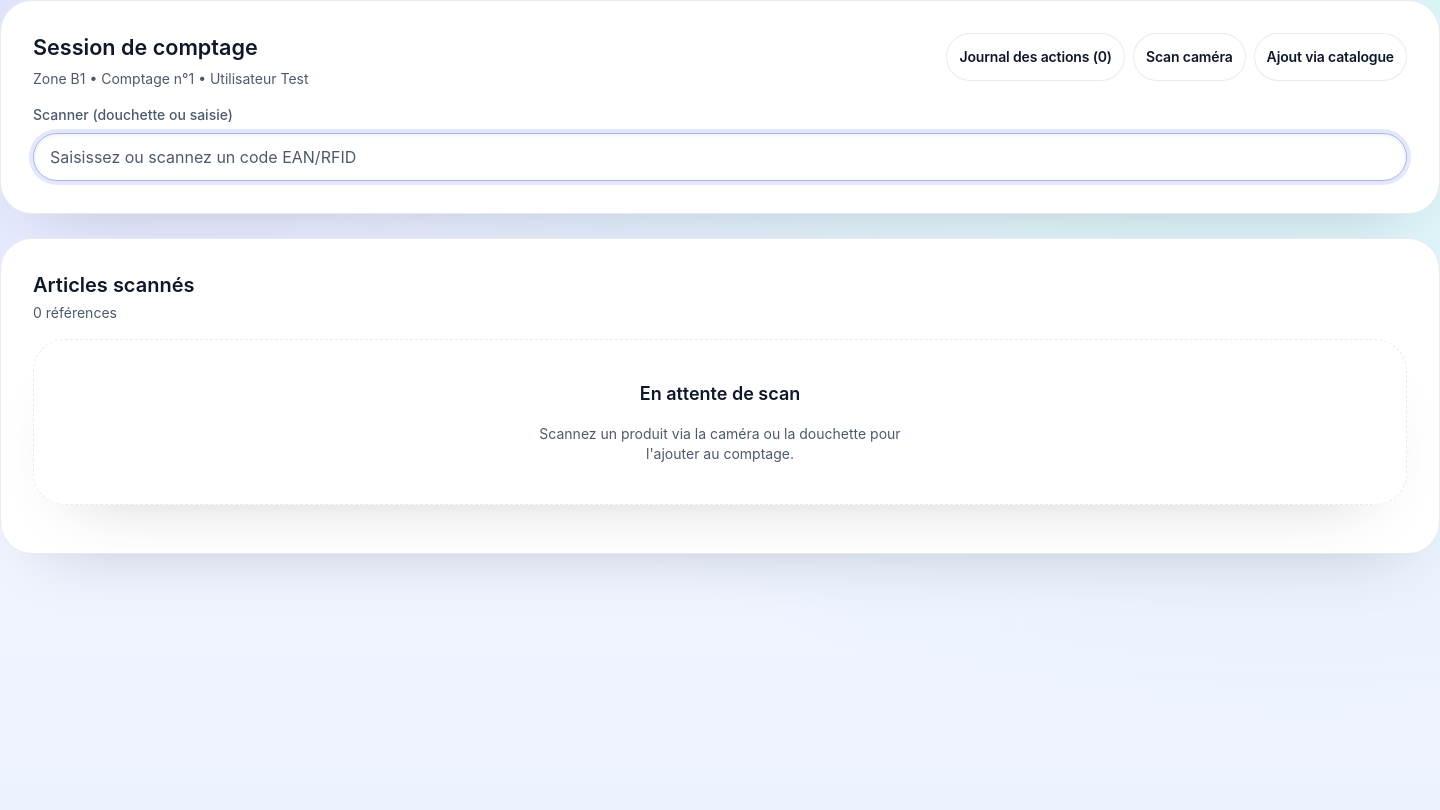
Test: InventorySessionPage - ajout manuel › signale un produit inconnu lorsqu’un code non référencé est saisi
The width and height of the screenshot is (1440, 810).
Type "12345678" into the field labelled "Scanner (douchette ou saisie)" at (720, 157), box [33, 133, 1407, 181]
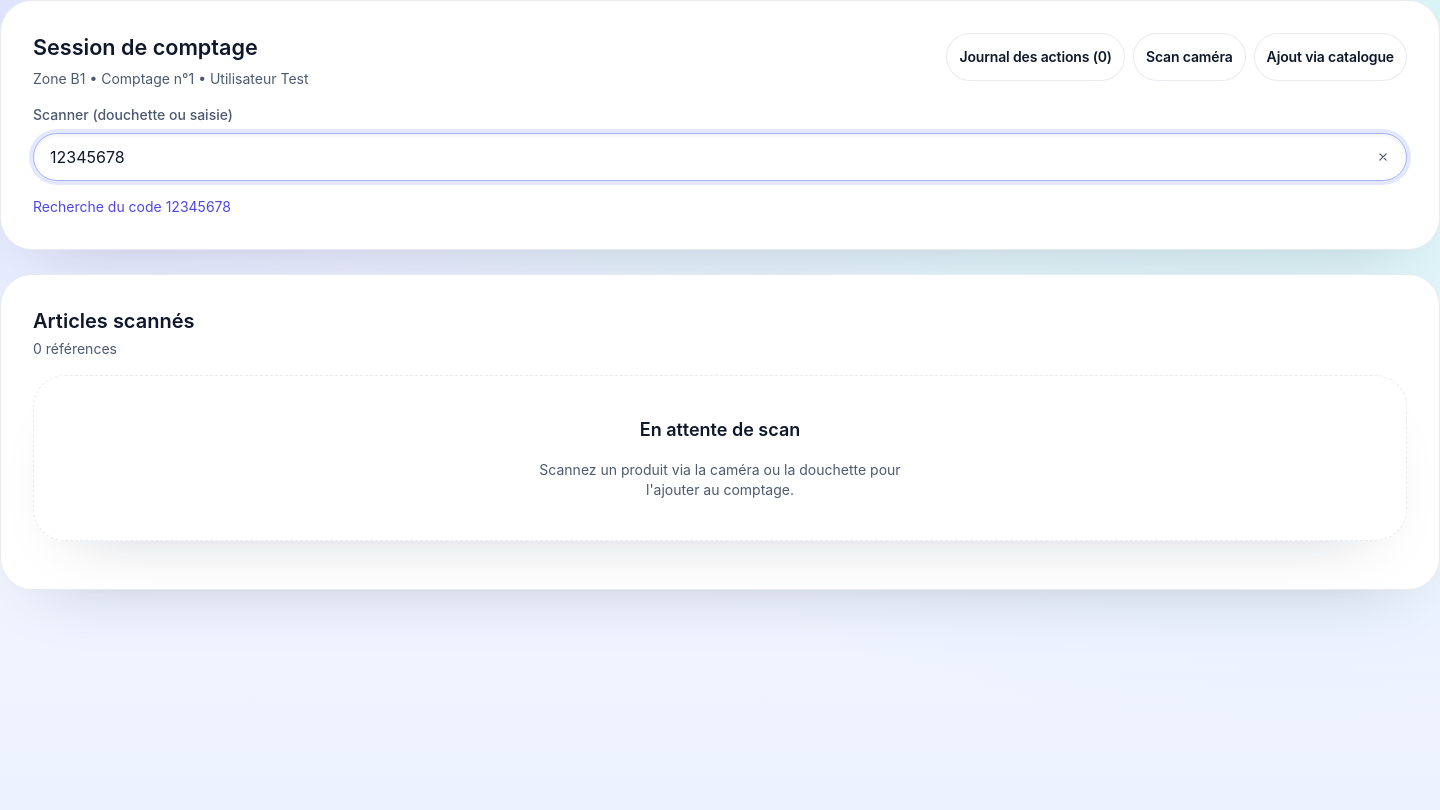
Press Enter in the field labelled "Scanner (douchette ou saisie)", box [33, 133, 1407, 181]
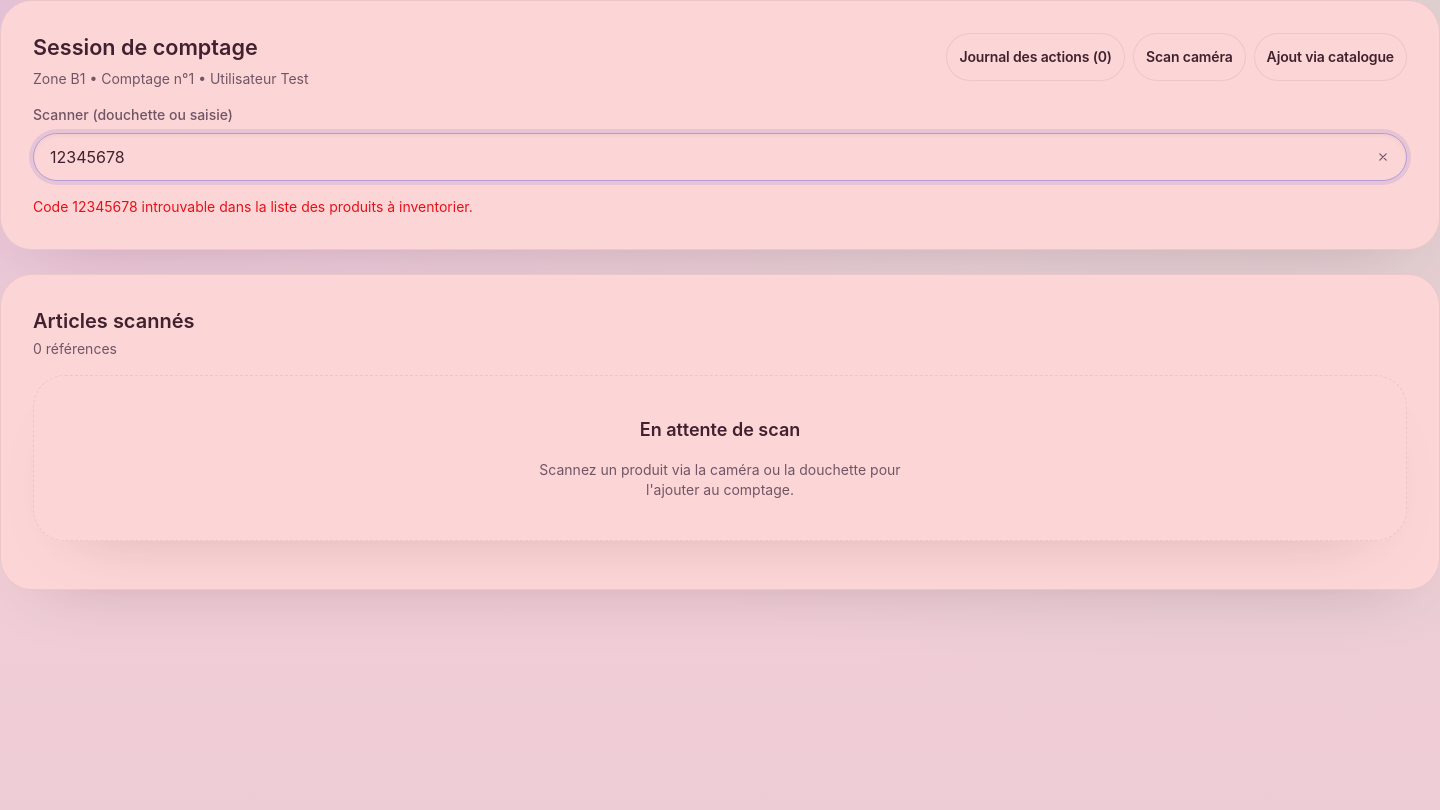
expect the text "Code 12345678 introuvable dans la liste des produits à inventorier." is shown: met, box [33, 198, 473, 215]
